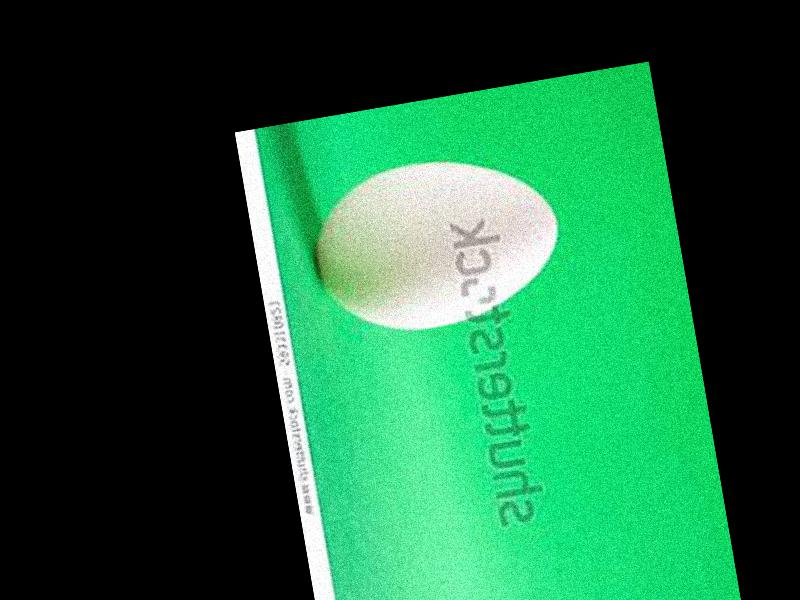Eggs: (299, 140, 569, 345)
